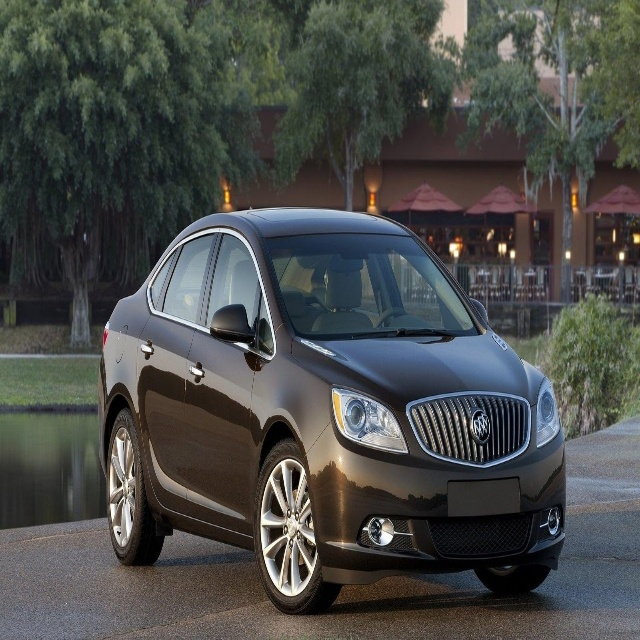Car: (98, 205, 567, 616)
